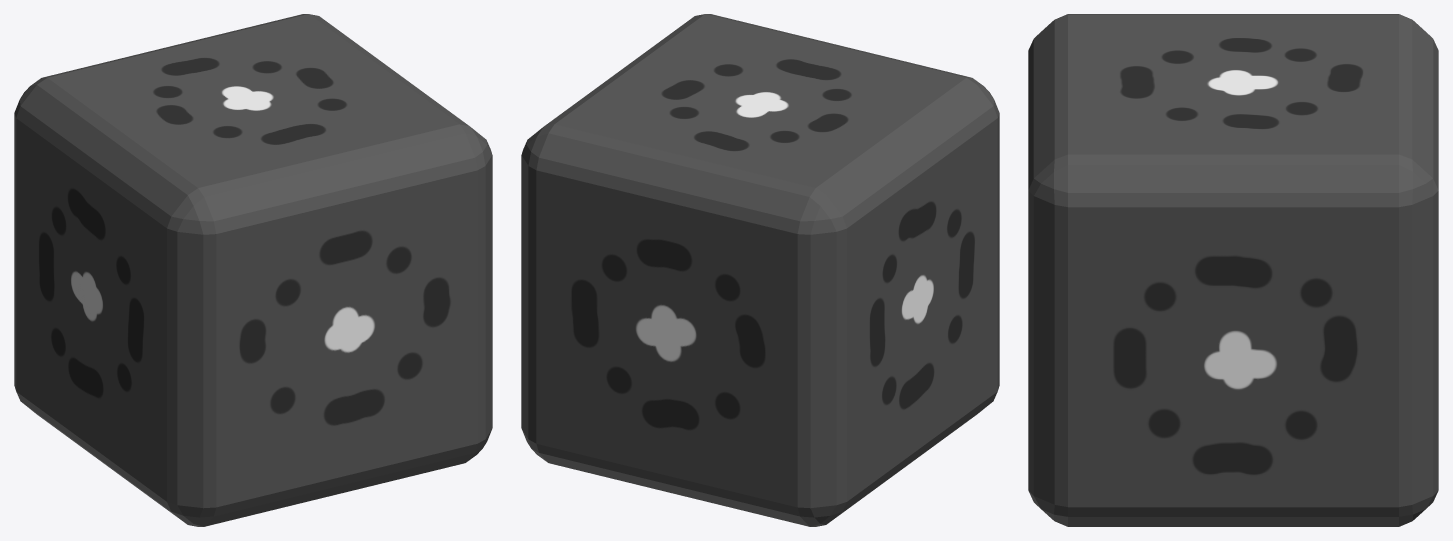
3 renders of one model, left to right at view 1: azimuth 30°, elevation 25°; view 2: azimuth 150°, elevation 25°; view 3: azimuth 270°, elevation 25°, orthographic. The views are drawn at different scales.
Visible parts, largest first — view 1: 1x1 Block; view 2: 1x1 Block; view 3: 1x1 Block.
Part boxes in pixels (x1=…): 1x1 Block: x1=14, y1=14, x2=492, y2=526; 1x1 Block: x1=521, y1=14, x2=999, y2=526; 1x1 Block: x1=1028, y1=14, x2=1438, y2=526.
Bounding box in the file's own units: 1 × 1 × 1.
Materials: 1 (1 with a texture image).
